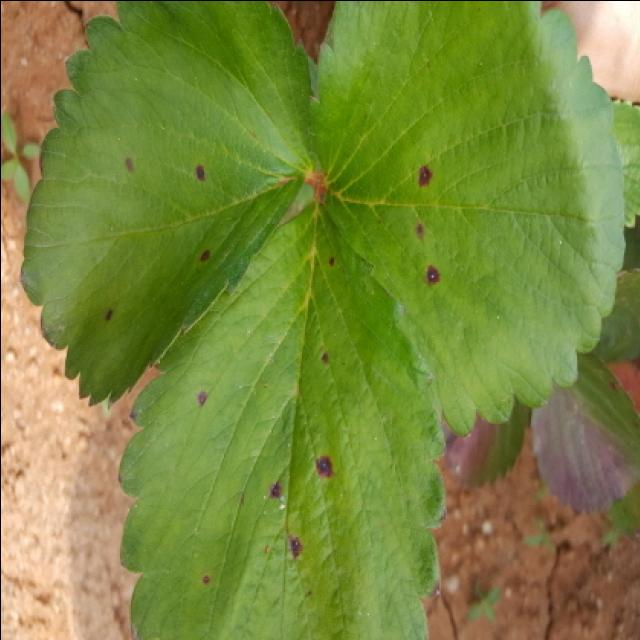Leaf Spot: (115, 188, 447, 640), (311, 2, 627, 436), (20, 2, 313, 409)
